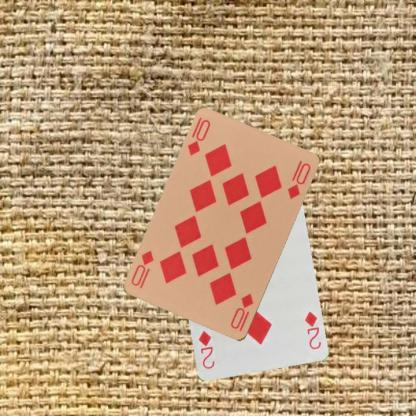10d: (228, 291, 255, 333), (185, 116, 212, 158)
2d: (301, 308, 322, 350)
